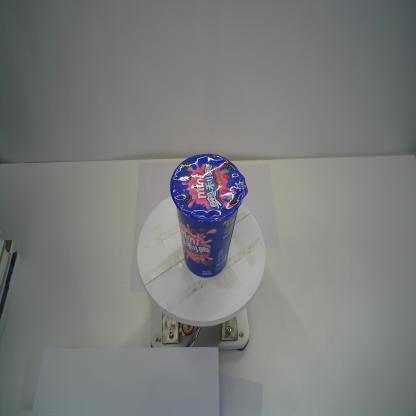Dessert: (170, 153, 249, 279)
